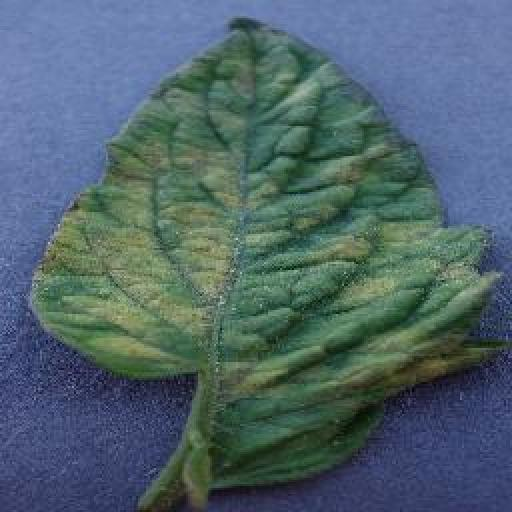Leaf Mold: (34, 16, 505, 512)
